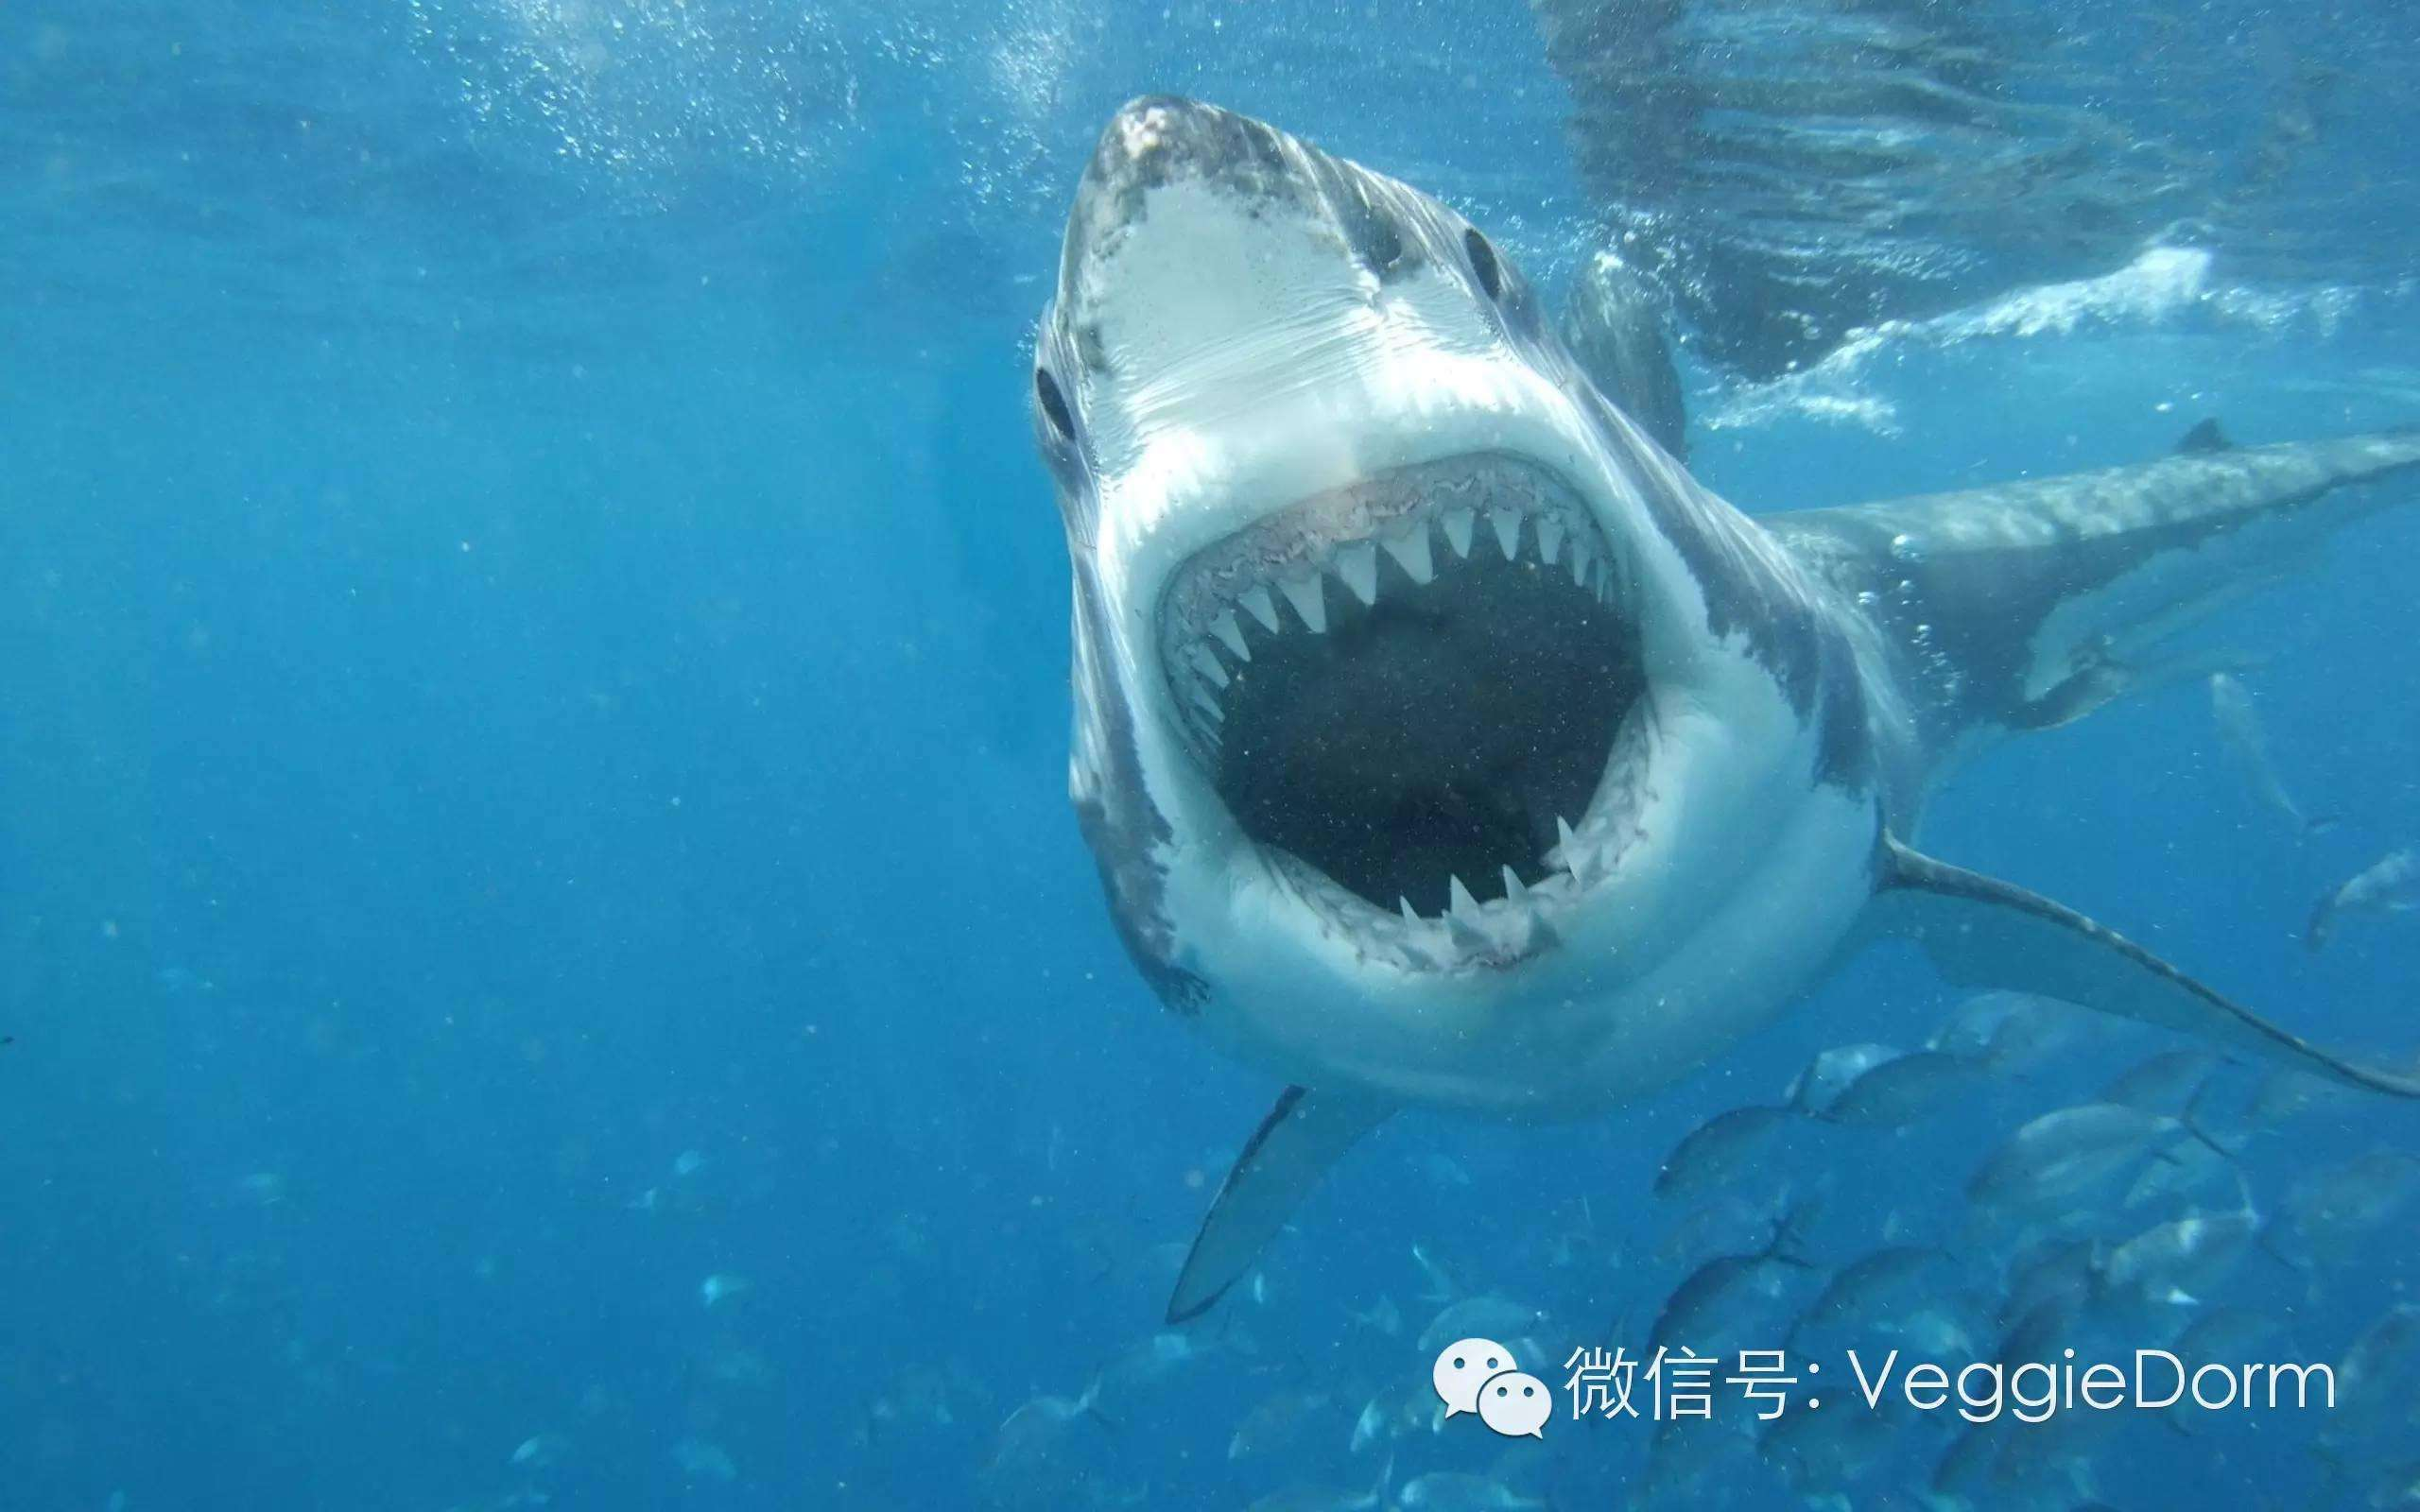shark: (1000, 103, 2420, 1313)
